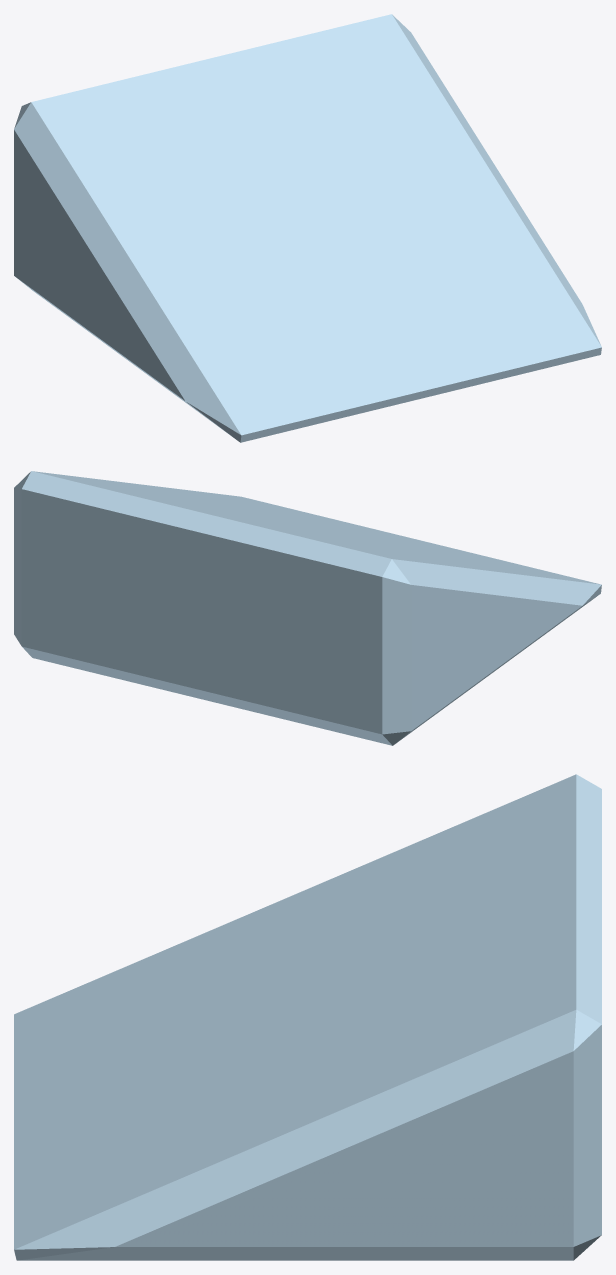
File: R4B_HalfWedge_LOD1.glb
3 views of the same model, one above another, from view 1: azimuth 30°, elevation 25°; view 2: azimuth 150°, elevation 25°; view 3: azimuth 270°, elevation 25° (orthographic). The views are drawn at different scales.
Parts seen in each view (by area): view 1: R4B_HalfWedge_LOD1; view 2: R4B_HalfWedge_LOD1; view 3: R4B_HalfWedge_LOD1.
Part boxes in pixels (<box>): R4B_HalfWedge_LOD1: <box>14,14,601,442</box>; R4B_HalfWedge_LOD1: <box>14,471,601,745</box>; R4B_HalfWedge_LOD1: <box>14,774,601,1260</box>.
Size of the model in its own units: 0.52 by 0.2348 by 0.4983.
